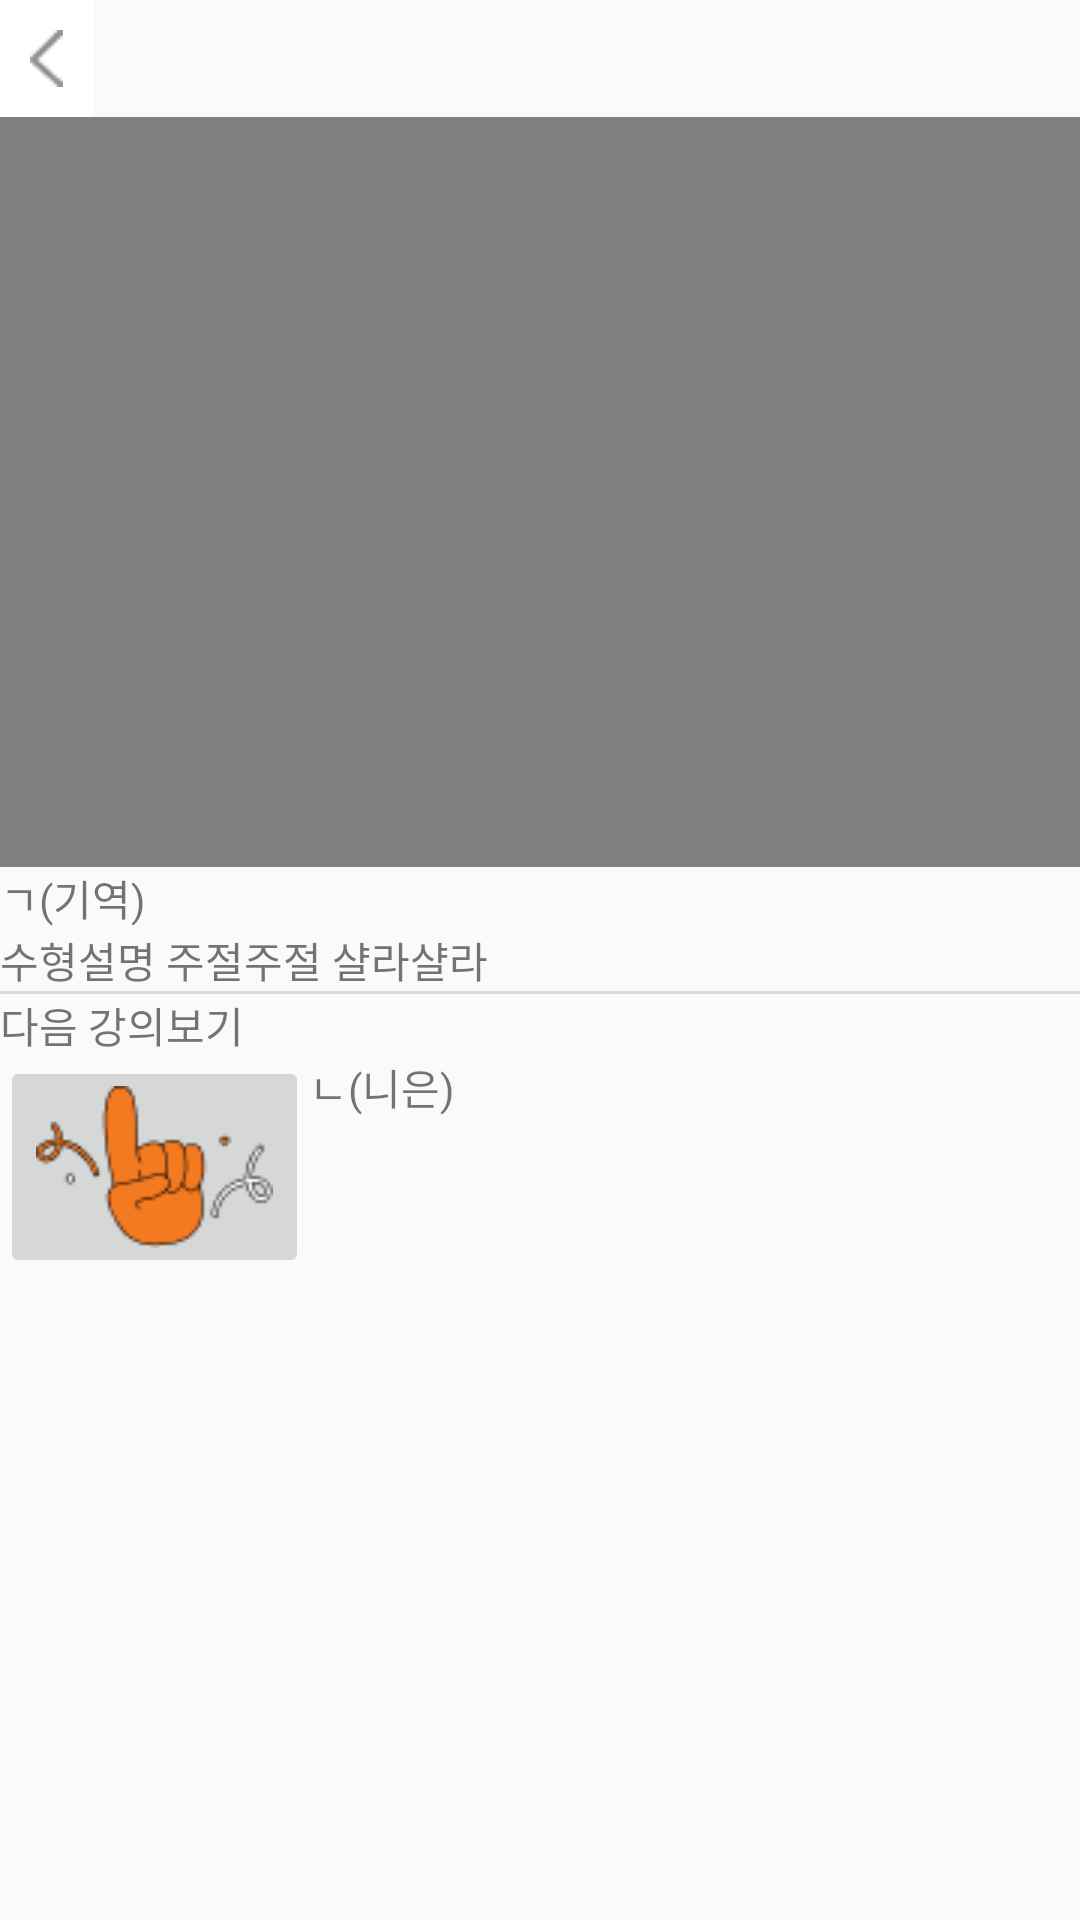

Named icons in this screenshot (1080 x 1920) and their centers, [x,y]:
back arrow: [46,58]
